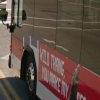Bus: (5, 1, 96, 100)
